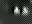person: (14, 6, 21, 16), (23, 7, 29, 17)
